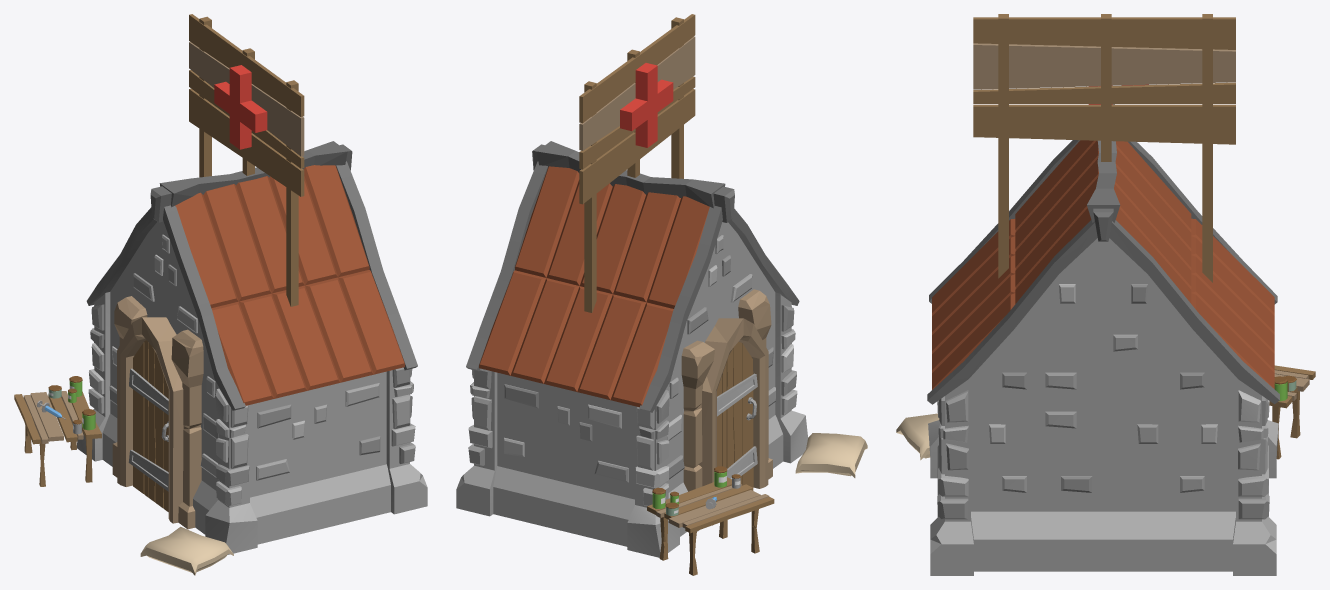
Rendered from doctor.fbx.
The picture shows the model from 3 angles, left to right: view 1: azimuth 30°, elevation 25°; view 2: azimuth 150°, elevation 25°; view 3: azimuth 270°, elevation 25°; orthographic projection. The views are drawn at different scales.
Visible parts, largest first — view 1: Doctor; view 2: Doctor; view 3: Doctor.
Boxes of the visible parts, x1=… form: Doctor: x1=14, y1=14, x2=427, y2=575; Doctor: x1=456, y1=14, x2=867, y2=575; Doctor: x1=896, y1=14, x2=1315, y2=575.
Bounding box in the file's own units: 233 × 336 × 255.
